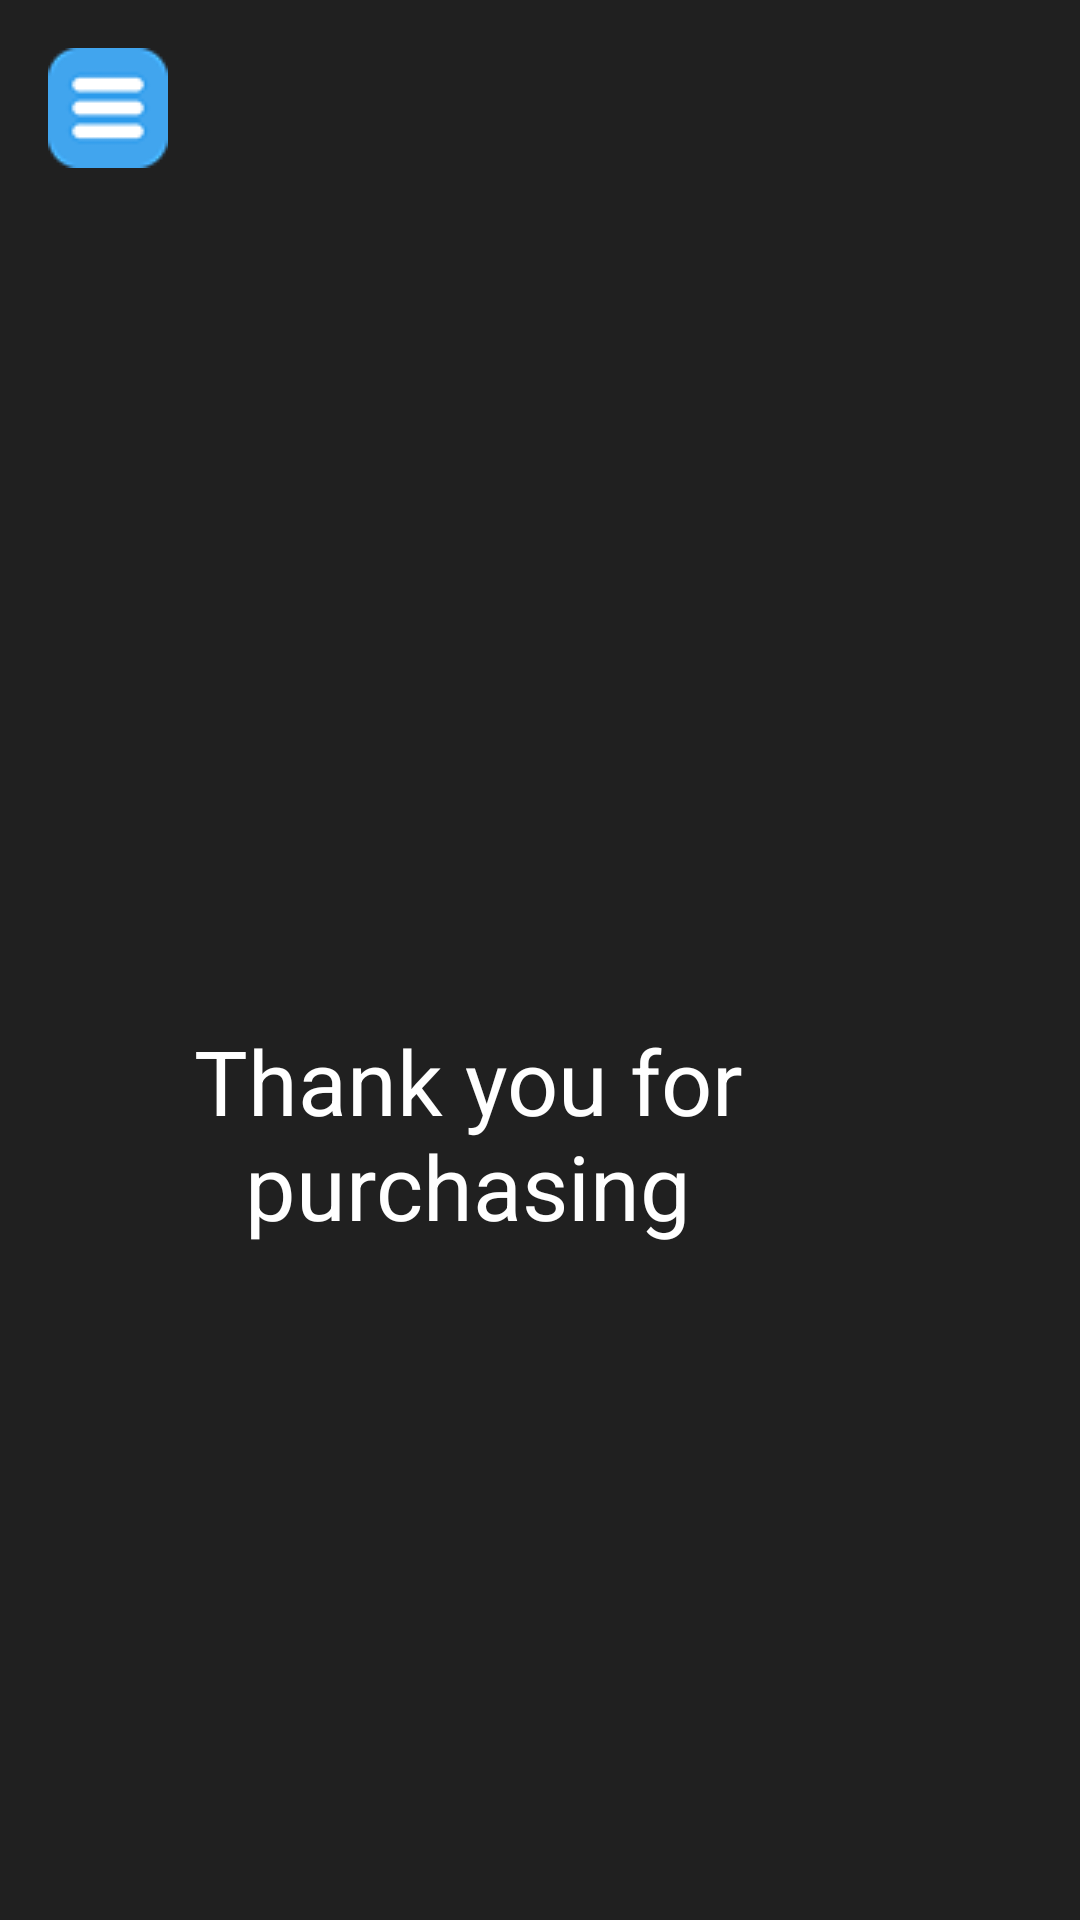

Icon click points for this 1080w x 1920h phone screenshot, format [x,y]:
Menu: [108,108]
